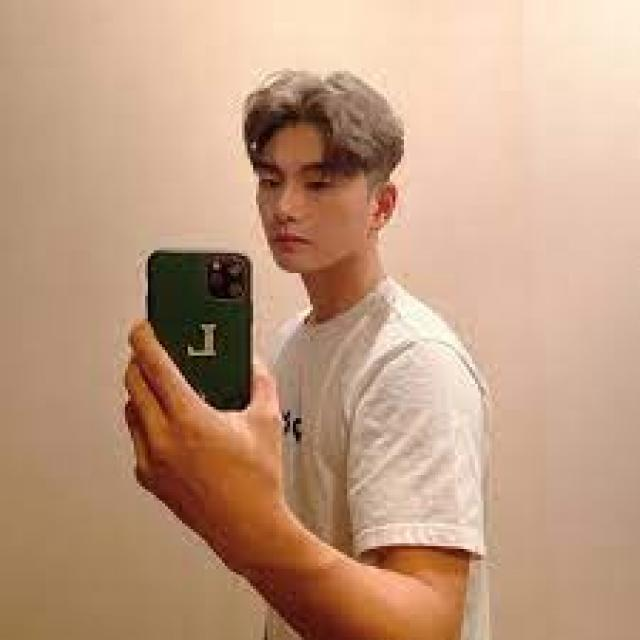Phone: (144, 248, 256, 416)
